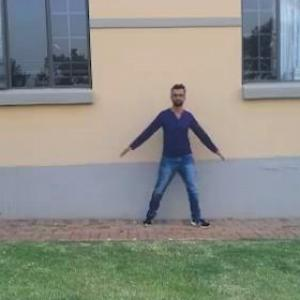land: (119, 87, 221, 242)
